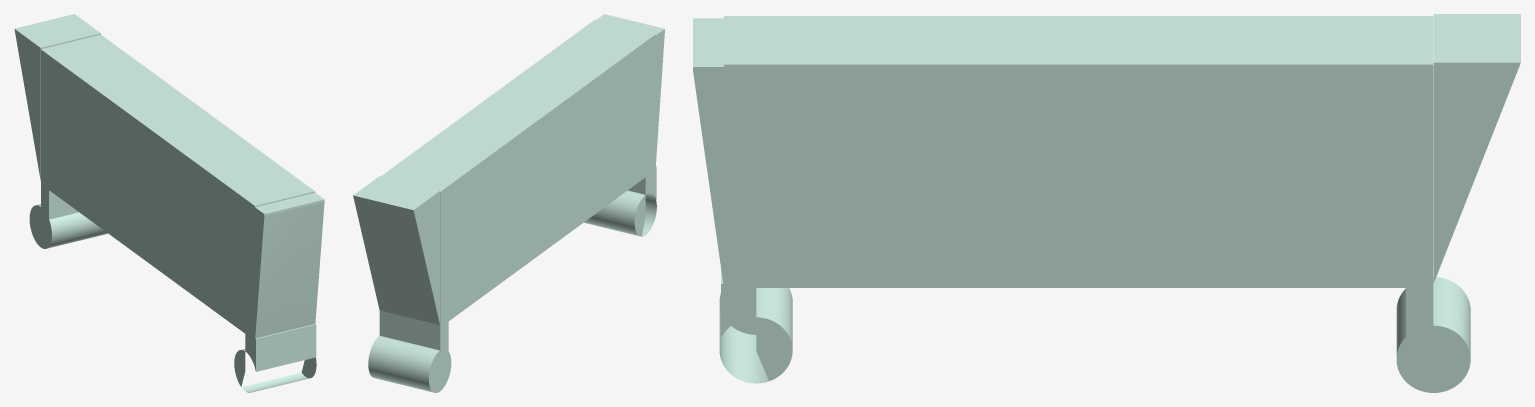
3 views of the same model, side by side, from view 1: azimuth 30°, elevation 25°; view 2: azimuth 150°, elevation 25°; view 3: azimuth 270°, elevation 25° (orthographic). The views are drawn at different scales.
Parts seen in each view (by area): view 1: Renderer Node; view 2: Renderer Node; view 3: Renderer Node.
Part boxes in pixels (x1,y1,x2,y2): Renderer Node: [14, 14, 324, 392]; Renderer Node: [353, 14, 664, 392]; Renderer Node: [693, 14, 1520, 392].
Size of the model in its own units: 0.1953 by 0.6181 by 1.4.
